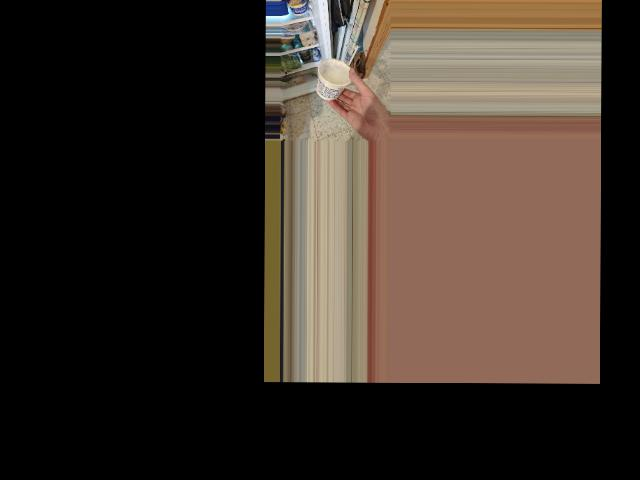cotage: (319, 58, 351, 101)
